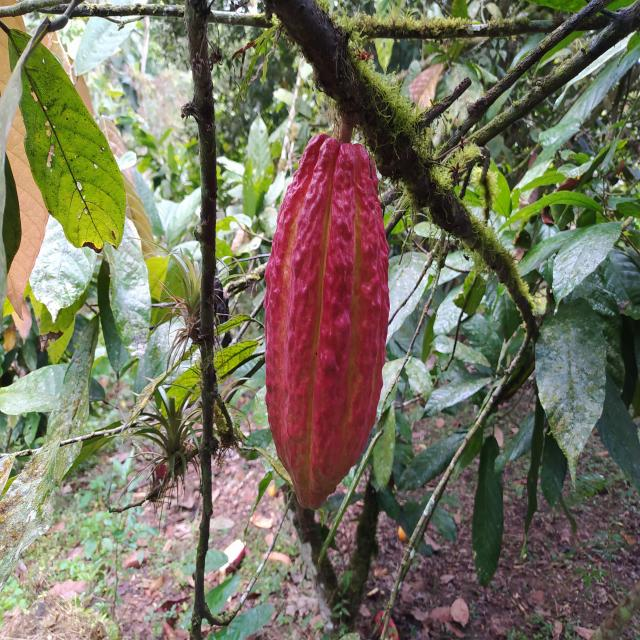Sana: (264, 134, 392, 513)
